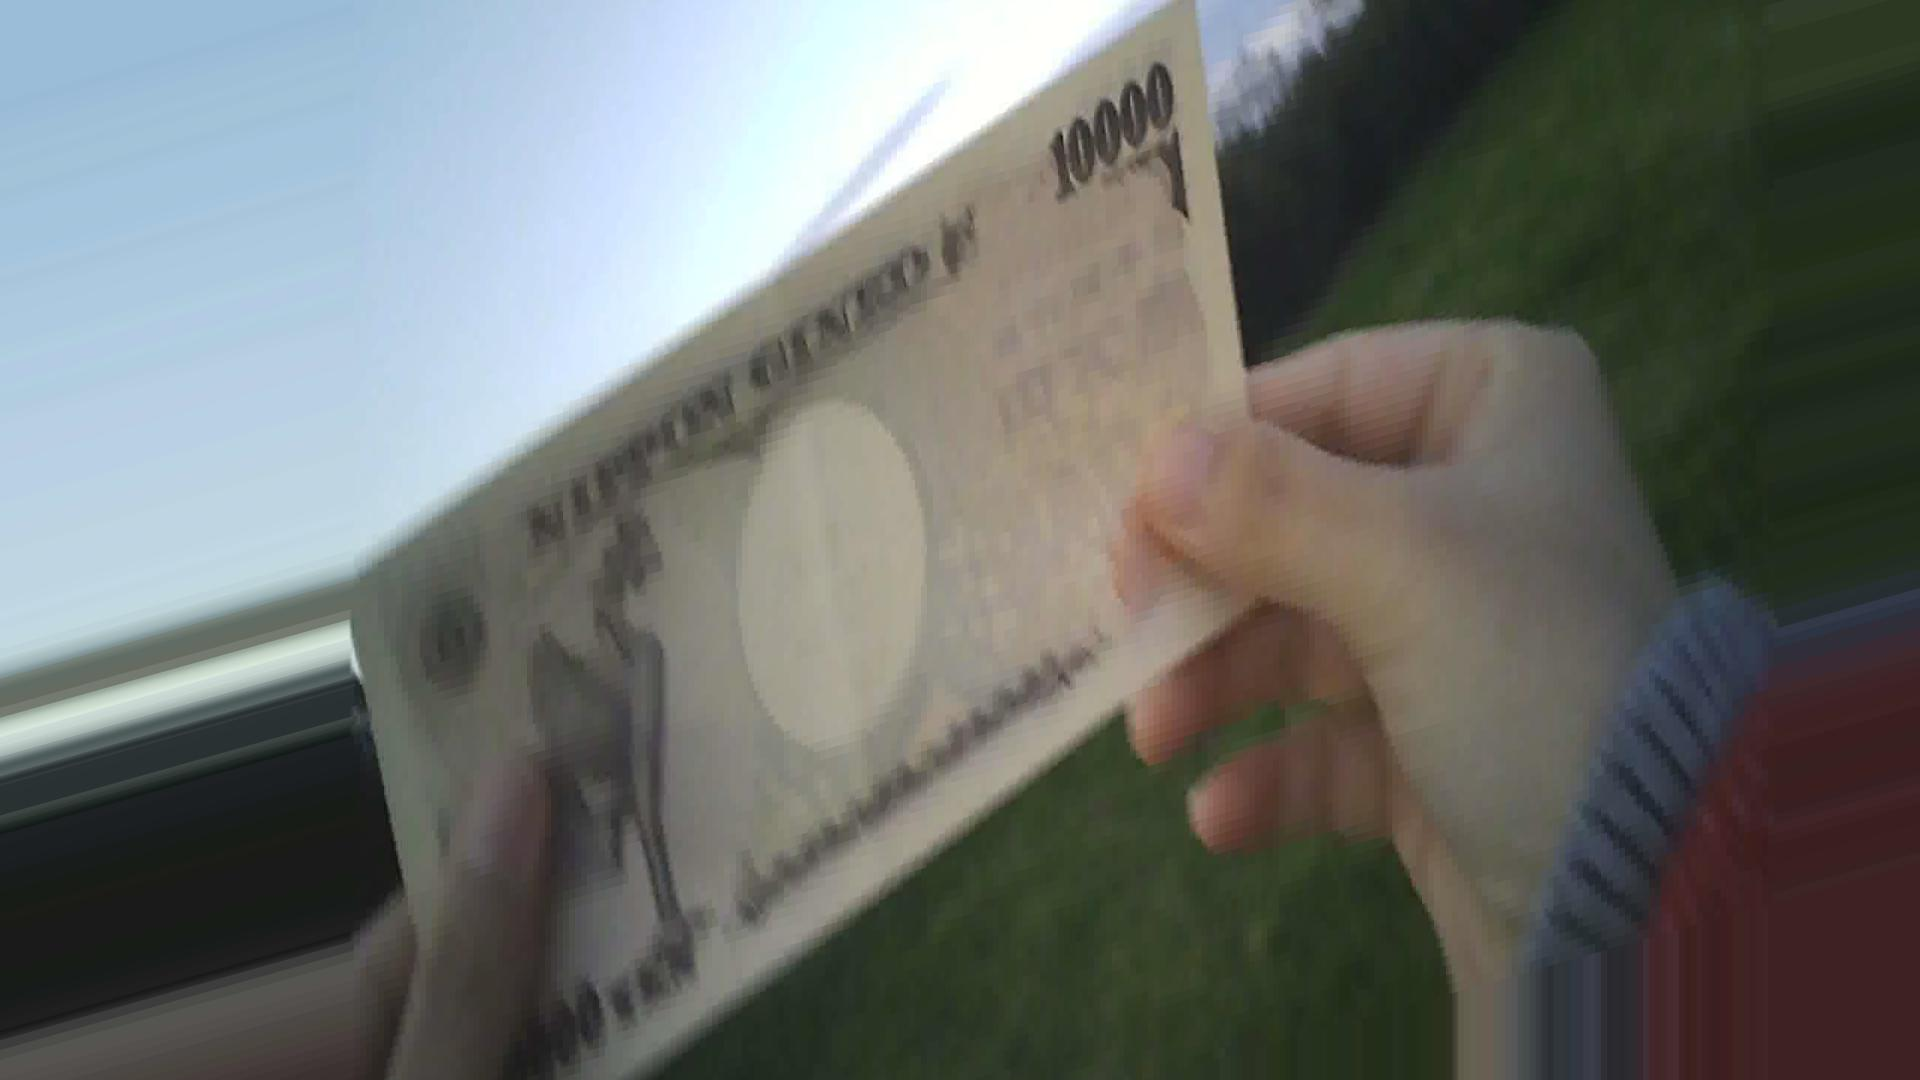10,000 Yen: (284, 3, 1344, 1042)
